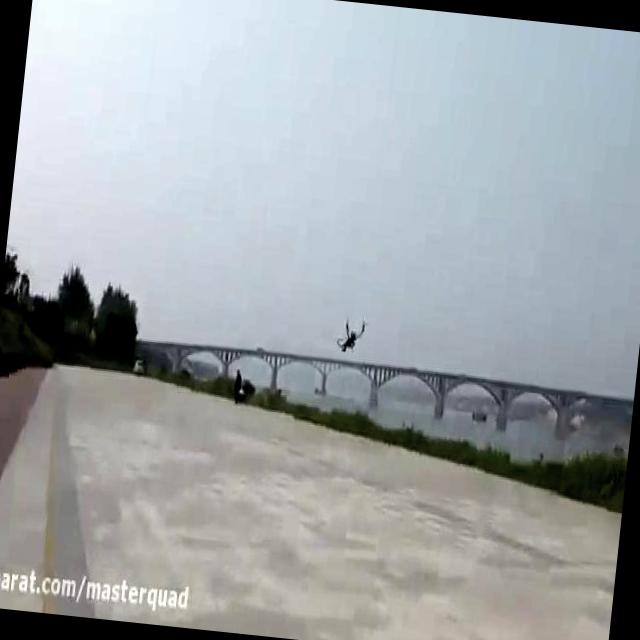drone: (332, 310, 370, 356)
